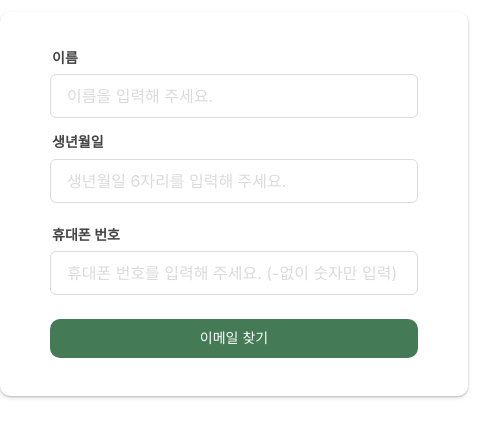
Scenario: 이메일 찾기 폼 테스트 › 각 인풋에 올바른 형식의 입력 없이 제출 버튼을 누르면 에러 메시지가 보여야 한다.
Type "홍" into the field labelled "이름" at point(234, 96), box [50,74,418,118]
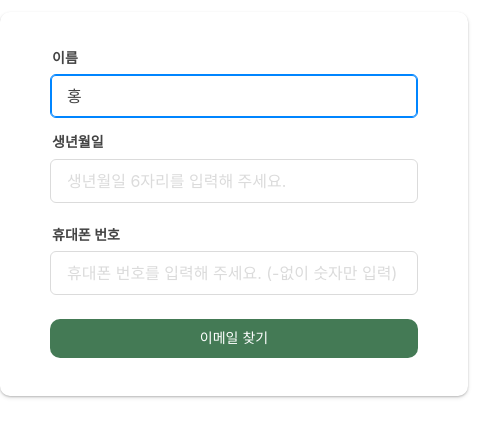
Type "123456" into the field labelled "생년월일" at point(234, 181), box [50,159,418,203]
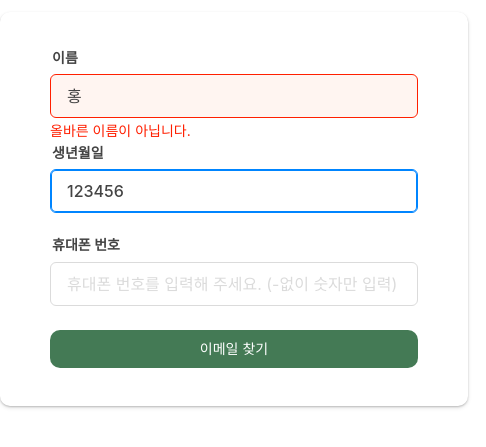
Type "48920349" into the field labelled "휴대폰 번호" at point(234, 284), box [50,262,418,306]
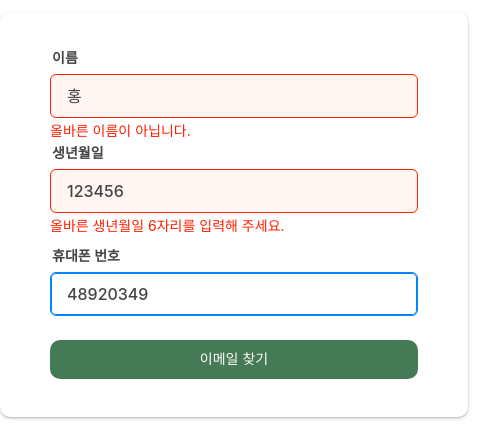
Click the button "이메일 찾기" at point(234, 360), box [50,340,418,379]
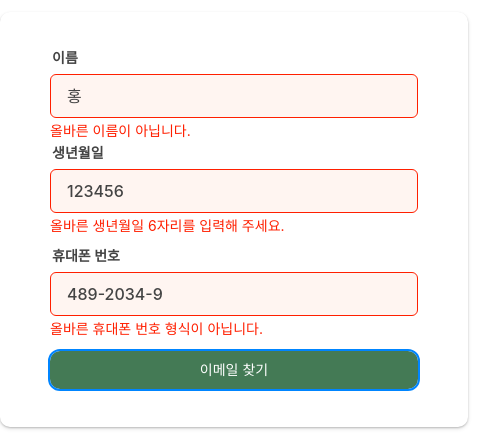
Expected: the text "올바른 이름이 아닙니다." is shown, [50,122,191,140]
Expected: the text "올바른 생년월일 6자리를 입력해 주세요." is shown, [50,218,284,234]
Expected: the text "올바른 휴대폰 번호 형식이 아닙니다." is shown, [50,320,263,338]
